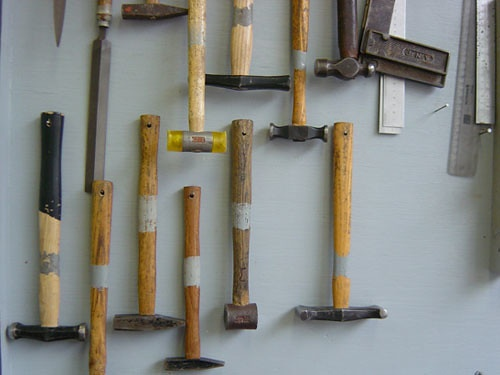hammer: (291, 121, 389, 325), (9, 108, 85, 340), (115, 114, 183, 333), (157, 185, 223, 373), (163, 1, 229, 156), (219, 116, 262, 333), (267, 1, 331, 144), (206, 1, 291, 97), (318, 1, 374, 84)
